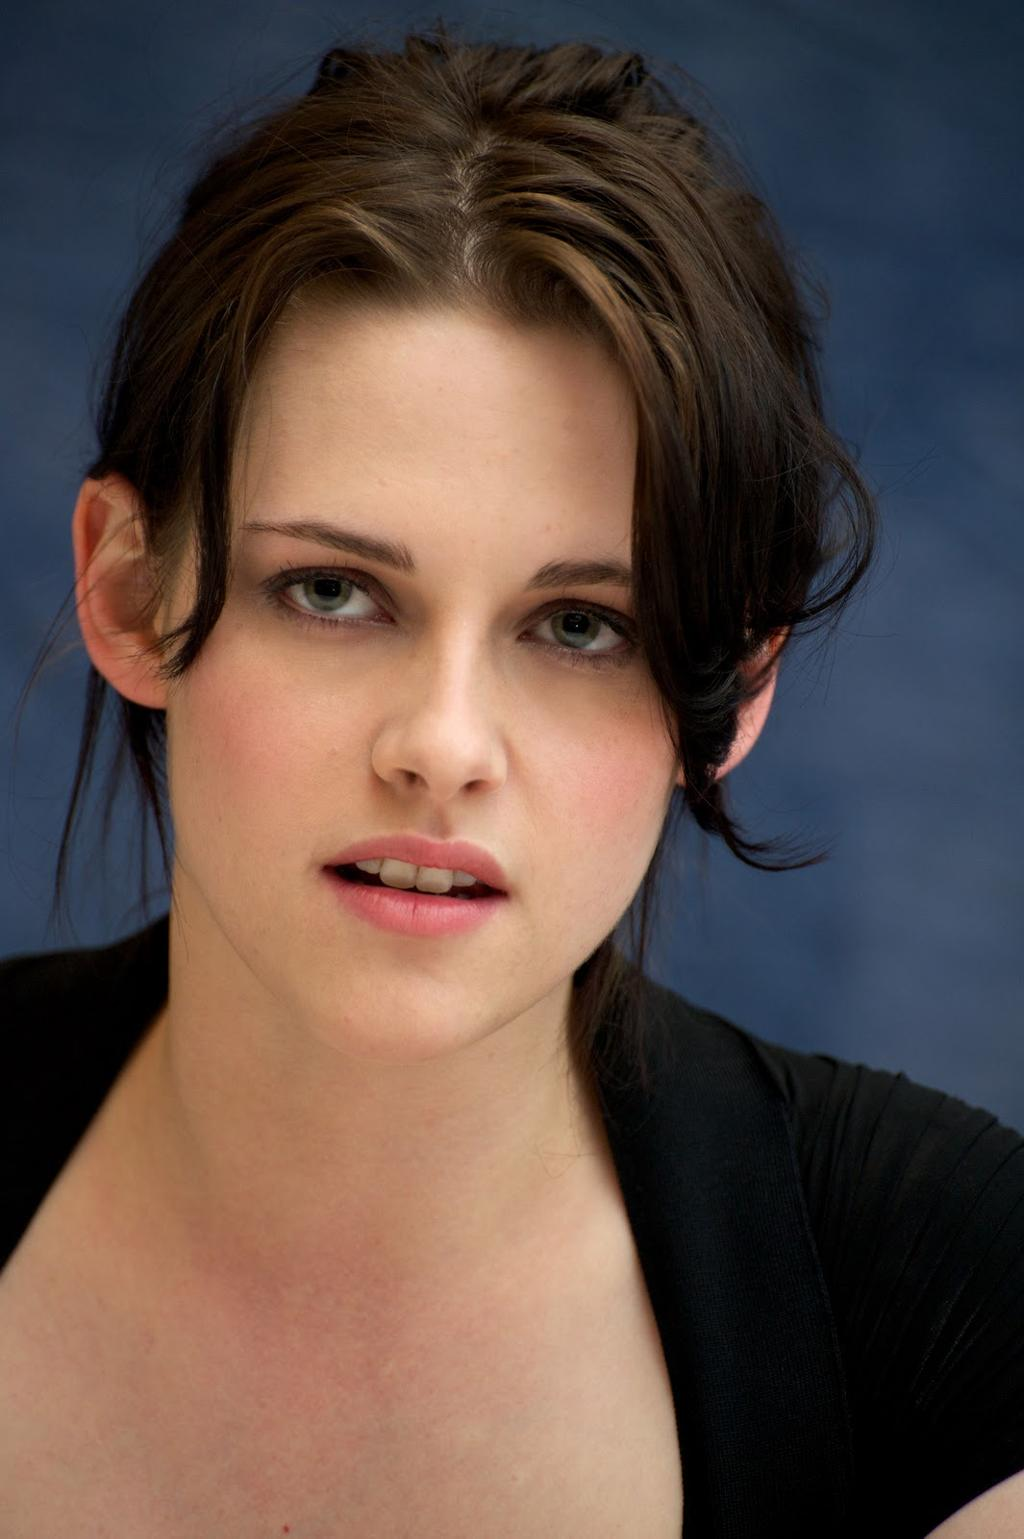face: (177, 303, 678, 1054)
